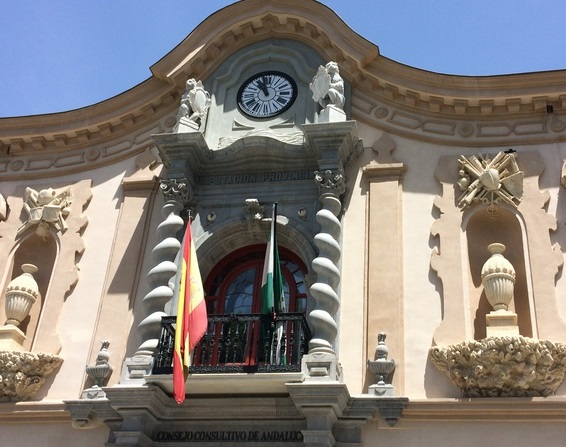columna-salomonica: (136, 199, 186, 351), (307, 191, 344, 348)
